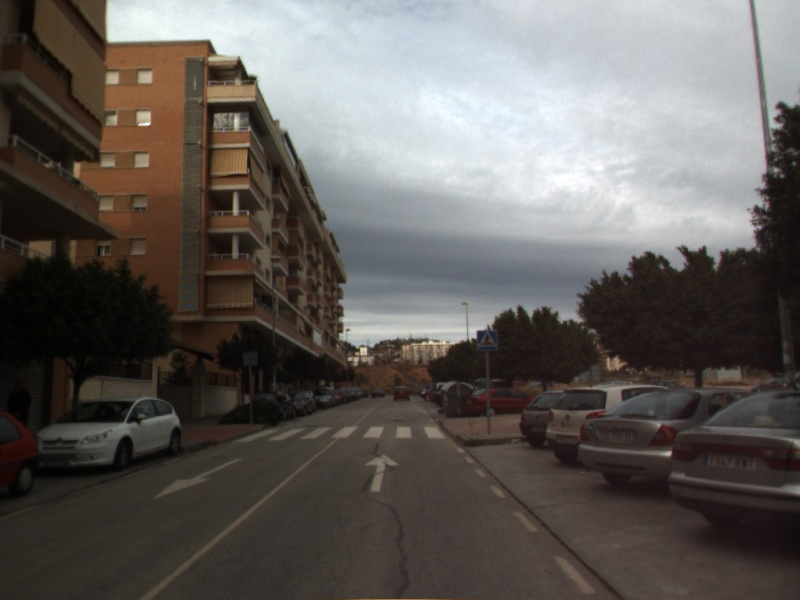STRAIGHT: (362, 452, 401, 494)
